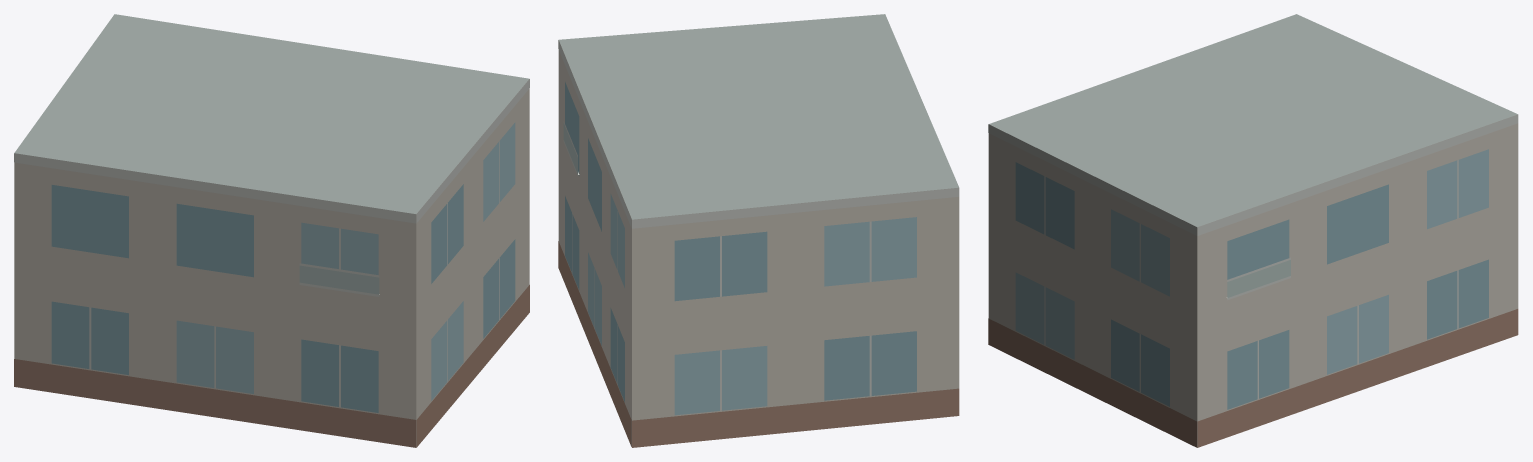
The model's file is survey-upis-32889506.glb.
The picture shows the model from 3 angles, left to right: view 1: azimuth 30°, elevation 25°; view 2: azimuth 150°, elevation 25°; view 3: azimuth 270°, elevation 25°; orthographic projection. The views are drawn at different scales.
Parts seen in each view (by area): view 1: survey-upis-32889506.tmp; view 2: survey-upis-32889506.tmp; view 3: survey-upis-32889506.tmp.
Boxes of the visible parts, x1=… form: survey-upis-32889506.tmp: x1=14, y1=14, x2=529, y2=447; survey-upis-32889506.tmp: x1=558, y1=14, x2=959, y2=447; survey-upis-32889506.tmp: x1=988, y1=14, x2=1518, y2=447.
Size of the model in its own units: 12.66 by 6.1 by 13.28.
